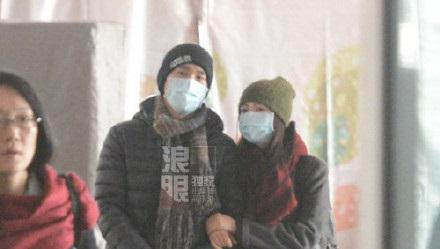NONE: (1, 109, 39, 170)
OK: (165, 64, 214, 113), (237, 99, 278, 140)
